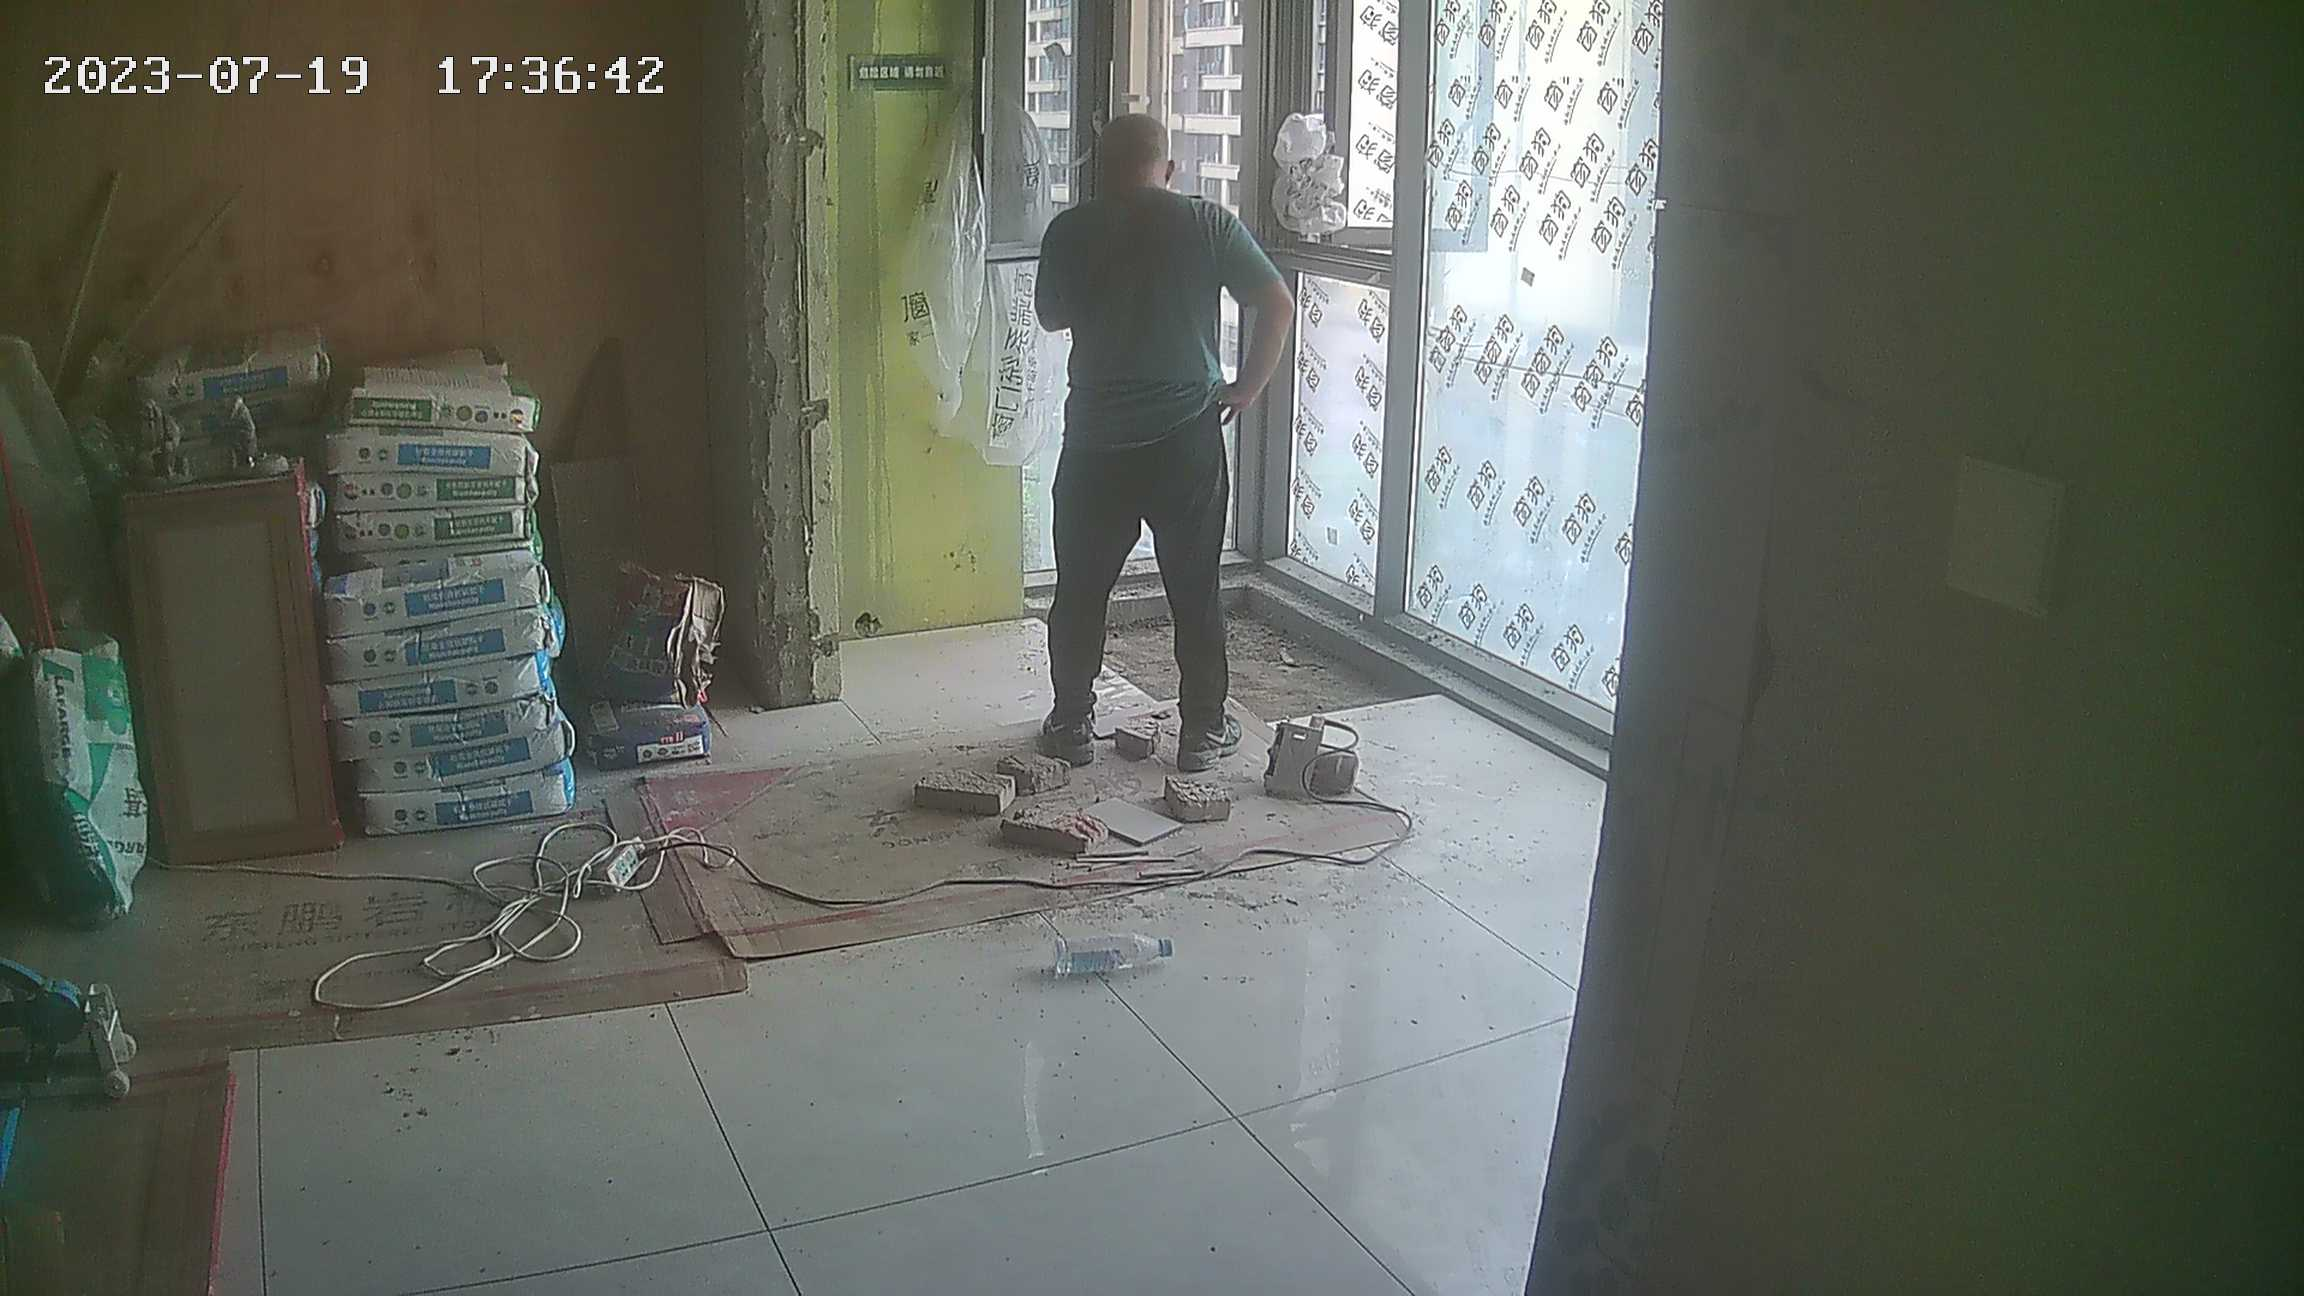people: (1032, 111, 1297, 773)
window: (989, 3, 1642, 748)
